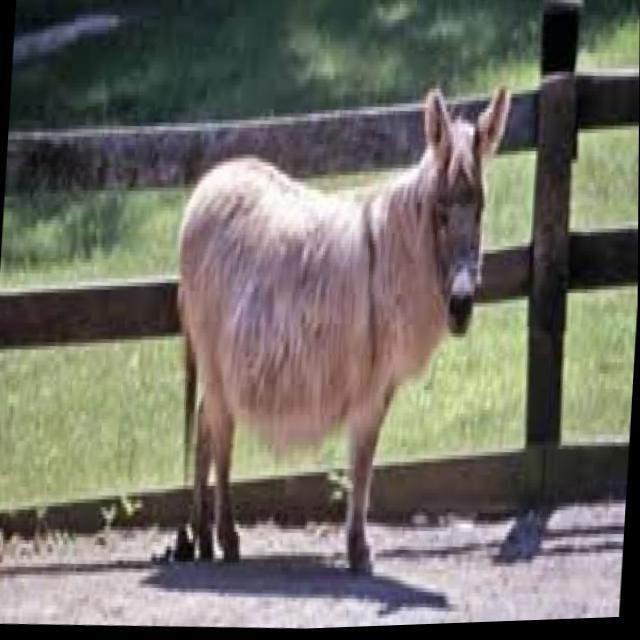Donkey: (159, 59, 526, 599)
